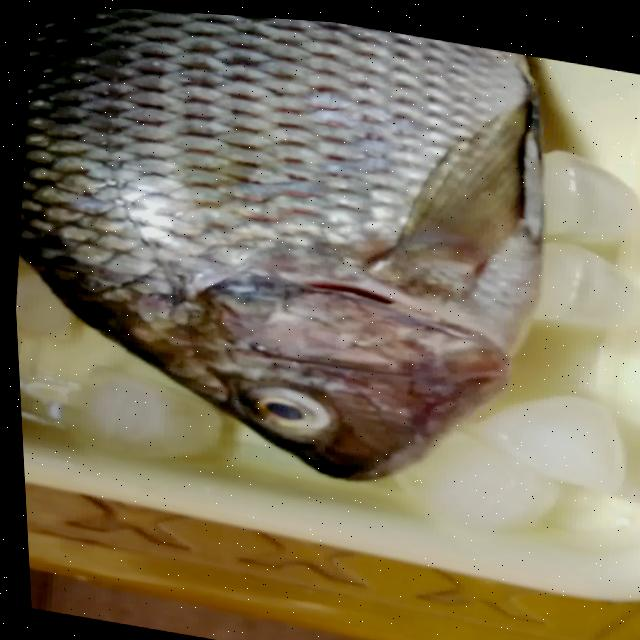Fresh: (34, 29, 533, 400), (228, 368, 347, 442)
